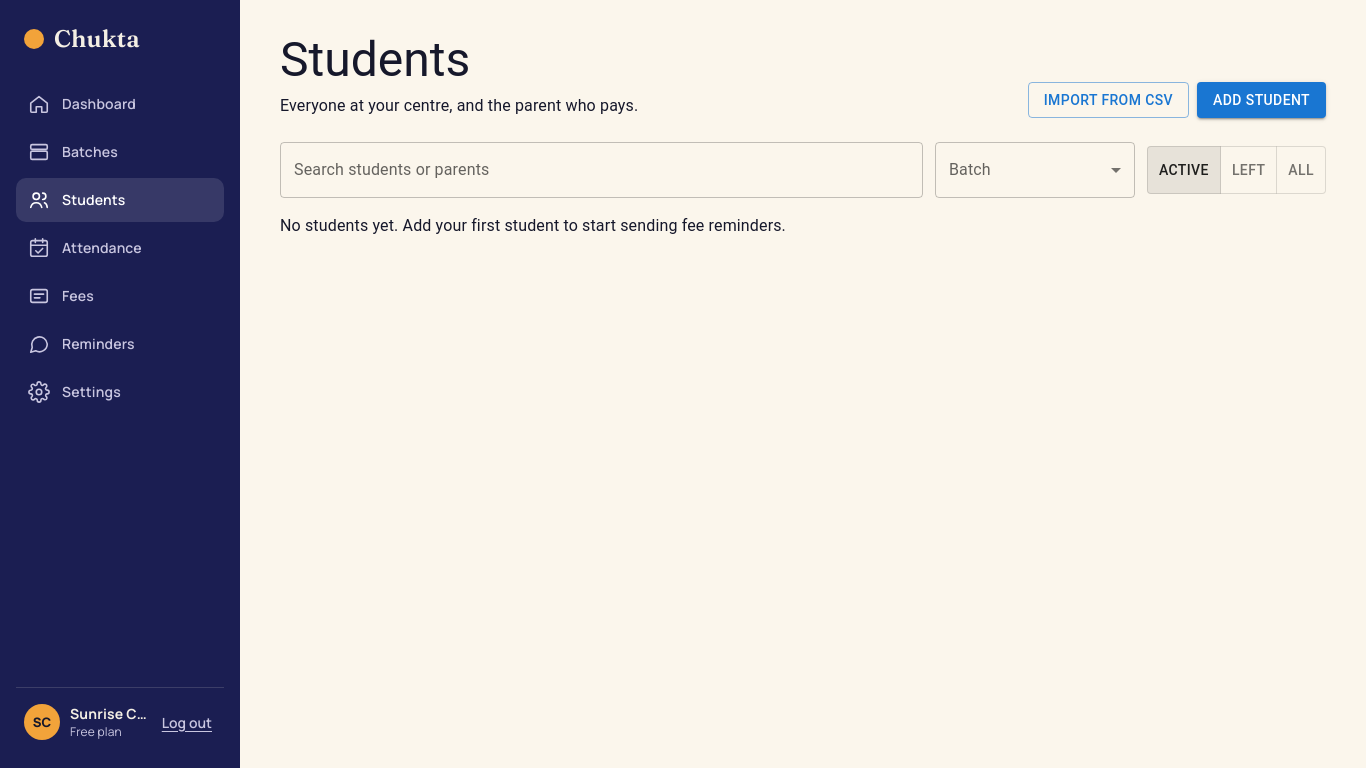
Test: /students › imports students from a CSV
The width and height of the screenshot is (1366, 768).
Click the button "Import from CSV" at (1108, 100), box [1028,82,1189,118]
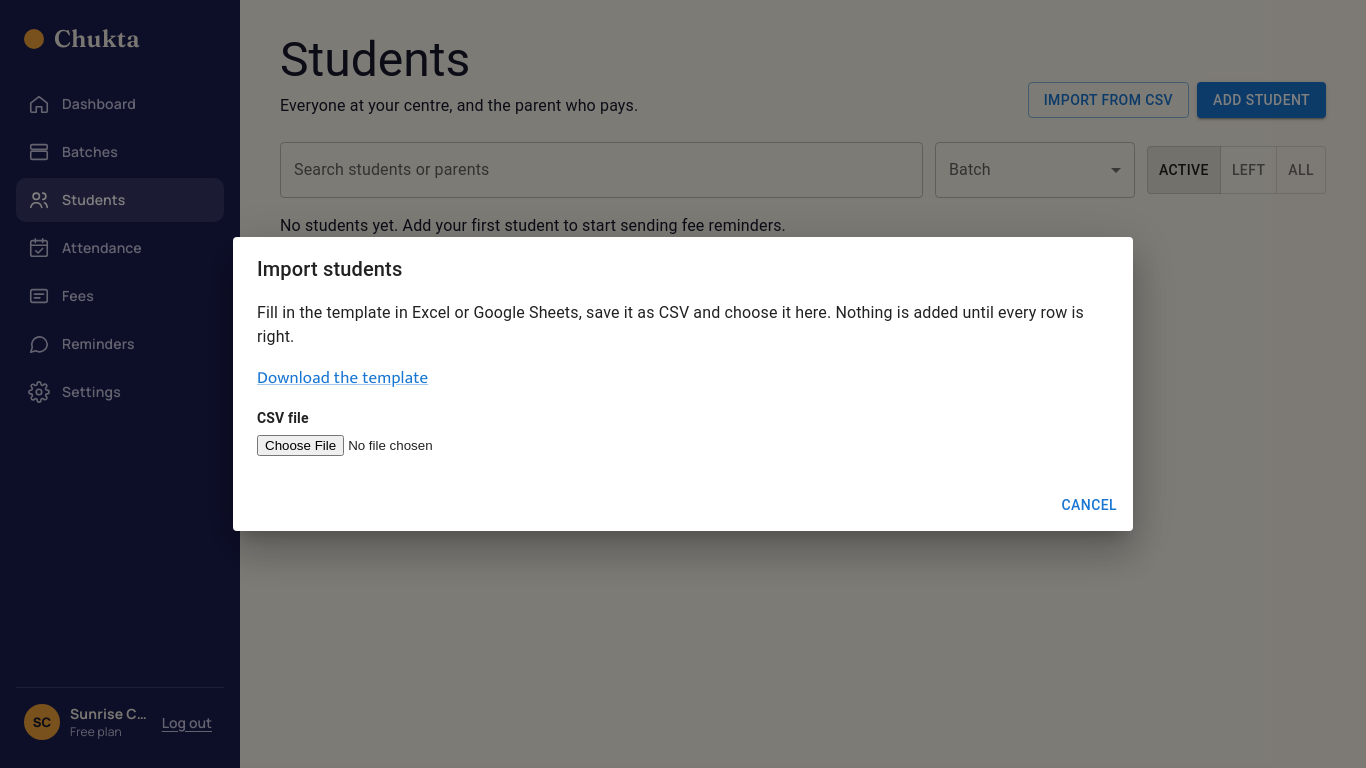
Expected: the dialog "Import students" is shown, [233,237,1133,531]
